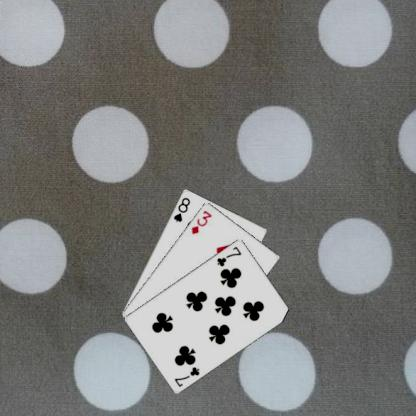3D: (189, 207, 213, 236)
7C: (214, 243, 243, 268), (172, 364, 201, 388)
8S: (170, 194, 192, 223)
